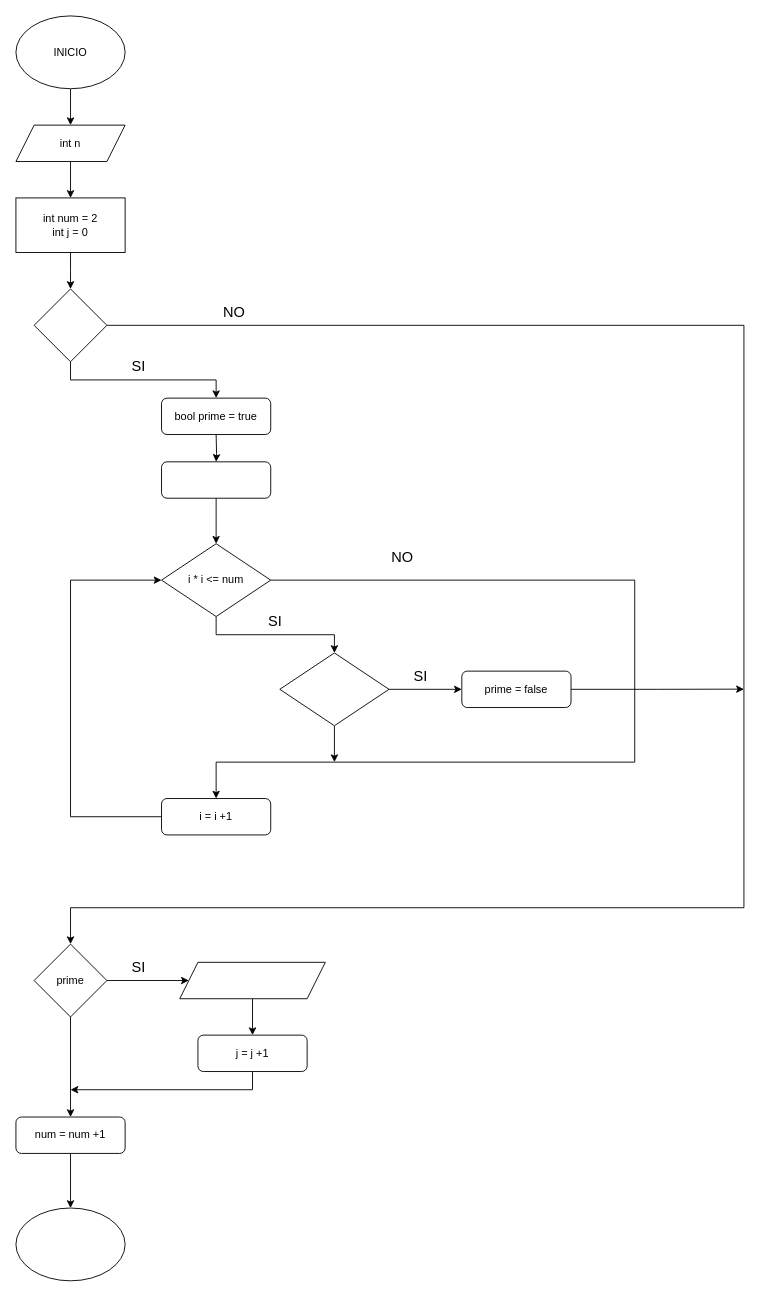
This 767x1297 diagram has some shape labels left out. The box of each missing label's shape, as (x1, y1, x2, y2) in pixels:
FIN: (15, 1207, 125, 1281)
int i = 2: (161, 461, 271, 498)
j < n: (33, 288, 107, 362)
num "espacio": (179, 961, 325, 999)
num % I = 0: (279, 652, 389, 726)
